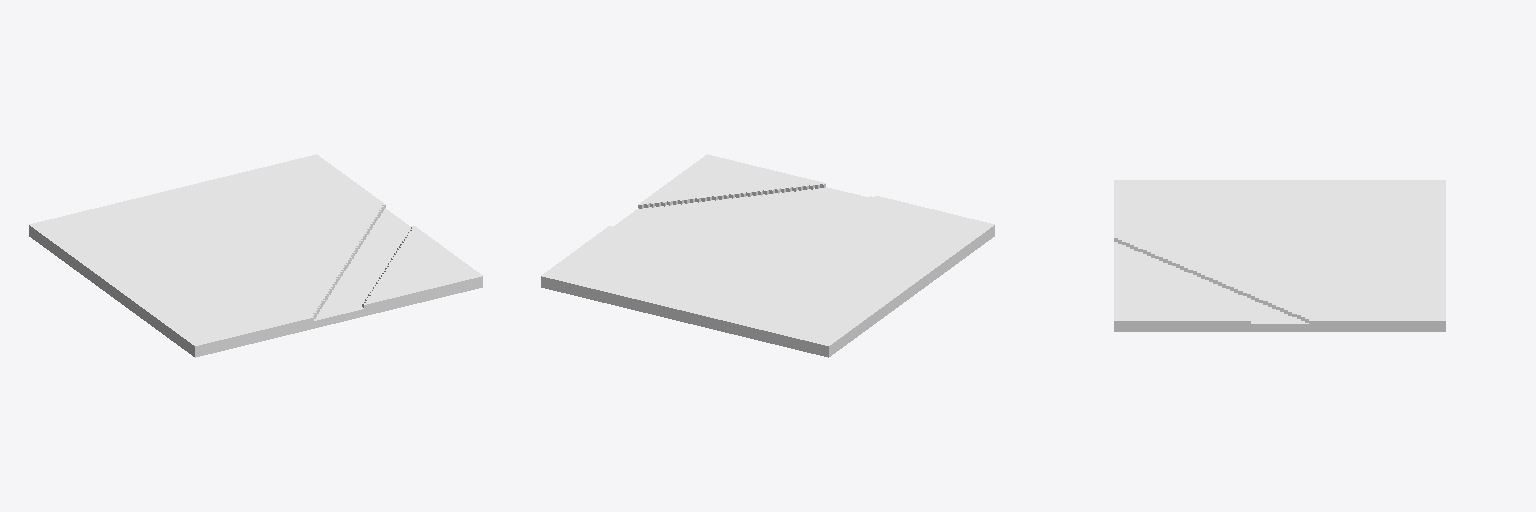
The model's file is straightCorner.obj.
3 views of the same model, side by side, from view 1: azimuth 30°, elevation 25°; view 2: azimuth 150°, elevation 25°; view 3: azimuth 270°, elevation 25° (orthographic).
Parts seen in each view (by area): view 1: straightCorner; view 2: straightCorner; view 3: straightCorner.
Part boxes in pixels (left/top/right/bottom): straightCorner: left=29, top=154, right=482, bottom=357; straightCorner: left=541, top=154, right=994, bottom=357; straightCorner: left=1114, top=180, right=1445, bottom=331.
Size of the model in its own units: 80 by 3 by 80.